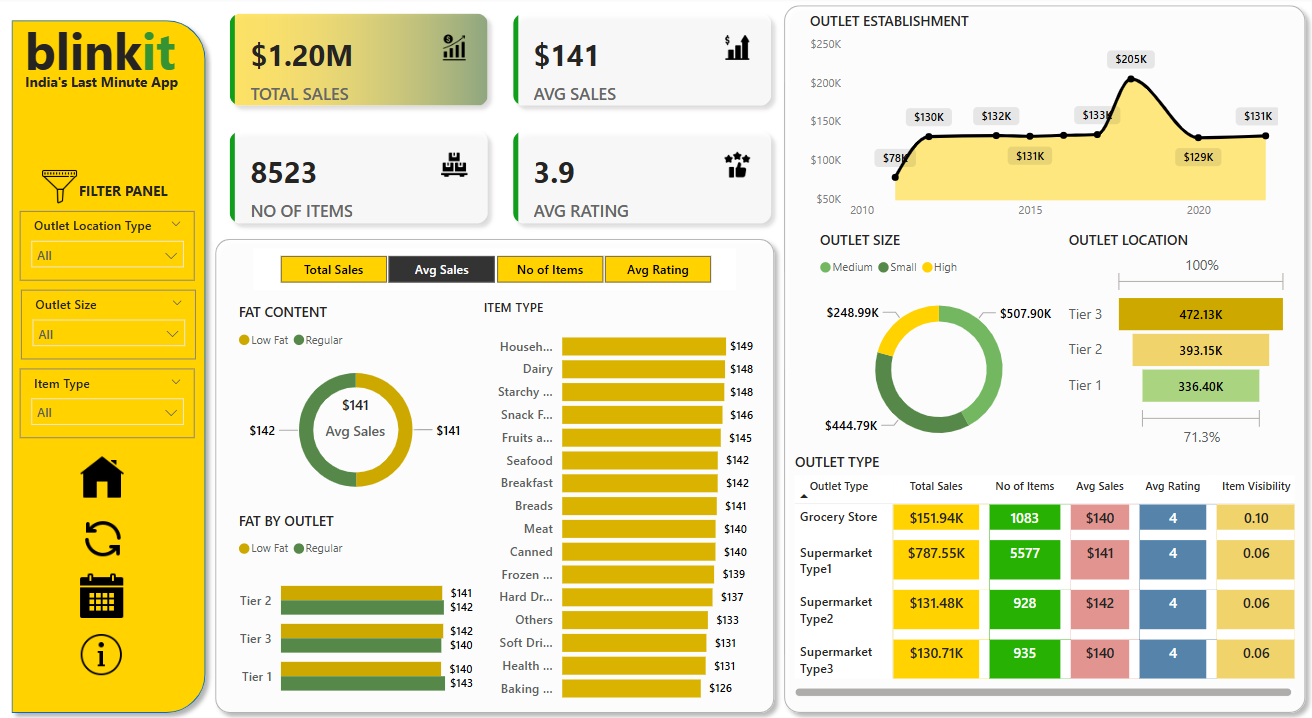

The page's visual inventory and layout, read from the dashboard file:
{"tool":"powerbi","page":{"name":"Page 1","canvas":[1280,720],"ordinal":0},"visuals":[{"type":"shape","box":[10.9,14.5,205.1,686.5],"z":0},{"type":"textbox","box":[27.7,14.5,168.9,82],"z":1000},{"type":"textbox","box":[27.7,68.8,168.9,38.6],"z":2000},{"type":"cardVisual","fields":{"Data":["BlinkIT Grocery Data.Total Sales","BlinkIT Grocery Data.Avg Sales","BlinkIT Grocery Data.No of Items","BlinkIT Grocery Data.Avg Rating"]},"box":[213.5,0,557.4,237.7],"z":3000},{"type":"shape","box":[207.5,225.6,557.4,475.3],"z":4000},{"type":"donutChart","title":"FAT CONTENT","fields":{"Y":["BlinkIT Grocery Data.Total Sales"],"Series":["BlinkIT Grocery Data.Item Fat Content"]},"box":[234,295.6,236.5,201.5],"z":5000},{"type":"slicer","fields":{"Values":["Metrics.Metrics"]},"box":[253.4,243.7,465.7,39.8],"z":6000},{"type":"cardVisual","fields":{"Data":["BlinkIT Grocery Data.Total Sales"]},"box":[300.4,364.3,102.5,85.7],"z":7000},{"type":"clusteredBarChart","title":"FAT BY OUTLET","fields":{"Y":["BlinkIT Grocery Data.Total Sales"],"Category":["BlinkIT Grocery Data.Outlet Location Type"],"Series":["BlinkIT Grocery Data.Item Fat Content"]},"box":[234,497.1,236.5,194.2],"z":8000},{"type":"barChart","title":"ITEM TYPE","fields":{"Y":["BlinkIT Grocery Data.Total Sales"],"Category":["BlinkIT Grocery Data.Item Type"]},"box":[470.5,292,270.2,399.3],"z":9000},{"type":"shape","box":[756.4,0,521.2,700.9],"z":10000},{"type":"lineChart","title":"OUTLET ESTABLISHMENT","fields":{"Category":["BlinkIT Grocery Data.Outlet Establishment Year"],"Y":["BlinkIT Grocery Data.Total Sales"]},"box":[785.4,14.5,462.1,209.9],"z":11000},{"type":"donutChart","title":"OUTLET SIZE","fields":{"Category":["BlinkIT Grocery Data.Outlet Size"],"Y":["BlinkIT Grocery Data.Total Sales"]},"box":[795,225.6,240.1,224.4],"z":12000},{"type":"funnel","title":"OUTLET LOCATION","fields":{"Y":["Sum(BlinkIT Grocery Data.Sales)"],"Category":["BlinkIT Grocery Data.Outlet Location Type"]},"box":[1035.1,225.6,222,214.7],"z":13000},{"type":"pivotTable","title":"OUTLET TYPE","fields":{"Rows":["BlinkIT Grocery Data.Outlet Type"],"Values":["BlinkIT Grocery Data.Total Sales","BlinkIT Grocery Data.No of Items","BlinkIT Grocery Data.Avg Sales","BlinkIT Grocery Data.Avg Rating","Avg(BlinkIT Grocery Data.Item Visibility)"]},"box":[770.9,440.4,492.2,241.3],"z":14000},{"type":"slicer","fields":{"Values":["BlinkIT Grocery Data.Outlet Location Type"]},"box":[27.7,207.5,168.9,67.6],"z":15000},{"type":"slicer","fields":{"Values":["BlinkIT Grocery Data.Outlet Size"]},"box":[29,283.5,168.9,67.6],"z":16000},{"type":"slicer","fields":{"Values":["BlinkIT Grocery Data.Item Type"]},"box":[27.7,359.5,168.9,67.6],"z":17000},{"type":"textbox","box":[79.6,173.7,107.4,33.8],"z":18000},{"type":"image","box":[43.4,159.3,45.8,48.3],"z":19000},{"type":"image","box":[80.8,437.9,53.1,54.3],"z":20000},{"type":"image","box":[82,497.1,51.9,53.1],"z":21000},{"type":"image","box":[79.6,550.1,54.3,59.1],"z":22000},{"type":"image","box":[78.4,609.3,56.7,53.1],"z":23000}]}

Visuals, with their boxes in screenshot pixels (x1, y1, x2, y2), scaled from the page's 1280x720 canvas onto the 1312x718 screenshot:
shape: BBox(11, 14, 221, 699)
textbox: BBox(28, 14, 202, 96)
textbox: BBox(28, 69, 202, 107)
cardVisual - BlinkIT Grocery Data.Total Sales x BlinkIT Grocery Data.Avg Sales: BBox(219, 0, 790, 237)
shape: BBox(213, 225, 784, 699)
"FAT CONTENT" donutChart: BBox(240, 295, 482, 496)
slicer - Metrics.Metrics: BBox(260, 243, 737, 283)
cardVisual - BlinkIT Grocery Data.Total Sales: BBox(308, 363, 413, 449)
"FAT BY OUTLET" clusteredBarChart: BBox(240, 496, 482, 689)
"ITEM TYPE" barChart: BBox(482, 291, 759, 689)
shape: BBox(775, 0, 1310, 699)
"OUTLET ESTABLISHMENT" lineChart: BBox(805, 14, 1279, 224)
"OUTLET SIZE" donutChart: BBox(815, 225, 1061, 449)
"OUTLET LOCATION" funnel: BBox(1061, 225, 1289, 439)
"OUTLET TYPE" pivotTable: BBox(790, 439, 1295, 680)
slicer - BlinkIT Grocery Data.Outlet Location Type: BBox(28, 207, 202, 274)
slicer - BlinkIT Grocery Data.Outlet Size: BBox(30, 283, 203, 350)
slicer - BlinkIT Grocery Data.Item Type: BBox(28, 359, 202, 426)
textbox: BBox(82, 173, 192, 207)
image: BBox(44, 159, 91, 207)
image: BBox(83, 437, 137, 491)
image: BBox(84, 496, 137, 549)
image: BBox(82, 549, 137, 608)
image: BBox(80, 608, 138, 661)
